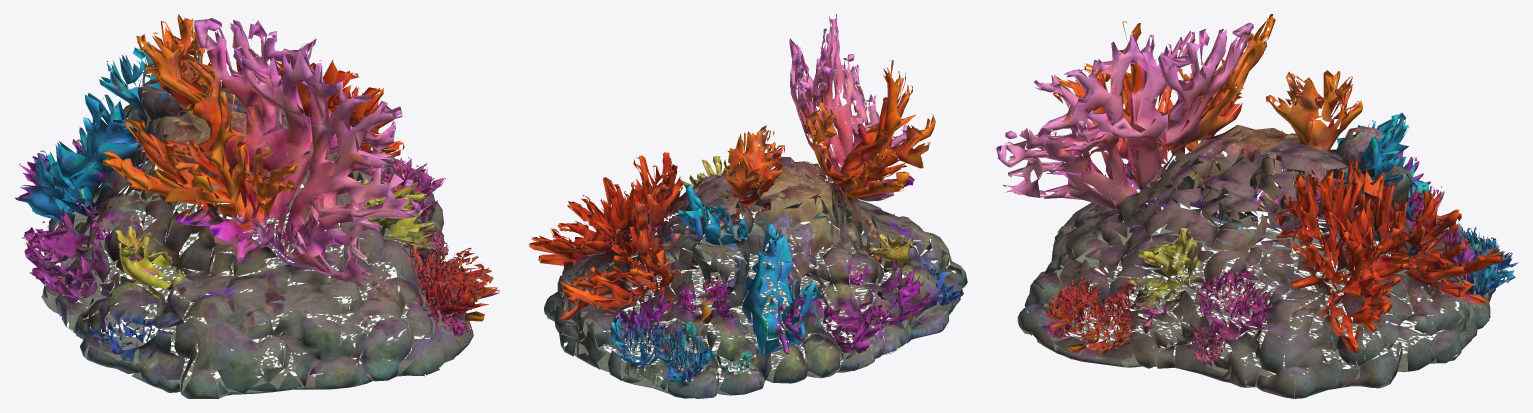
File: coral_lazulight.glb
3 renders of one model, left to right at view 1: azimuth 30°, elevation 25°; view 2: azimuth 150°, elevation 25°; view 3: azimuth 270°, elevation 25°, orthographic. The views are drawn at different scales.
Visible parts, largest first — view 1: Object_4, Object_5, Object_6, Object_7, Object_8, Object_9, Object_11, Object_10; view 2: Object_5, Object_4, Object_6, Object_7, Object_8, Object_11, Object_9, Object_10; view 3: Object_4, Object_5, Object_6, Object_7, Object_8, Object_9, Object_11, Object_10.
Part boxes in pixels (x1=…): Object_4: x1=23, y1=23, x2=497, y2=398; Object_5: x1=20, y1=18, x2=495, y2=382; Object_6: x1=14, y1=20, x2=495, y2=393; Object_7: x1=16, y1=14, x2=499, y2=395; Object_8: x1=19, y1=16, x2=499, y2=354; Object_9: x1=20, y1=32, x2=497, y2=385; Object_11: x1=19, y1=19, x2=488, y2=379; Object_10: x1=19, y1=18, x2=492, y2=389; Object_5: x1=533, y1=26, x2=963, y2=398; Object_4: x1=539, y1=14, x2=967, y2=398; Object_6: x1=529, y1=19, x2=964, y2=394; Object_7: x1=532, y1=34, x2=955, y2=383; Object_8: x1=538, y1=15, x2=960, y2=383; Object_11: x1=564, y1=54, x2=959, y2=381; Object_9: x1=531, y1=19, x2=960, y2=382; Object_10: x1=572, y1=35, x2=958, y2=392; Object_4: x1=1005, y1=14, x2=1515, y2=398; Object_5: x1=1011, y1=27, x2=1506, y2=398; Object_6: x1=997, y1=24, x2=1515, y2=382; Object_7: x1=996, y1=21, x2=1510, y2=391; Object_8: x1=1005, y1=16, x2=1512, y2=367; Object_9: x1=1002, y1=18, x2=1518, y2=368; Object_11: x1=1010, y1=22, x2=1512, y2=385; Object_10: x1=1045, y1=34, x2=1511, y2=376.
Bounding box in the file's own units: 1.69 × 1.15 × 2.01.
1 material, 1 textured.
